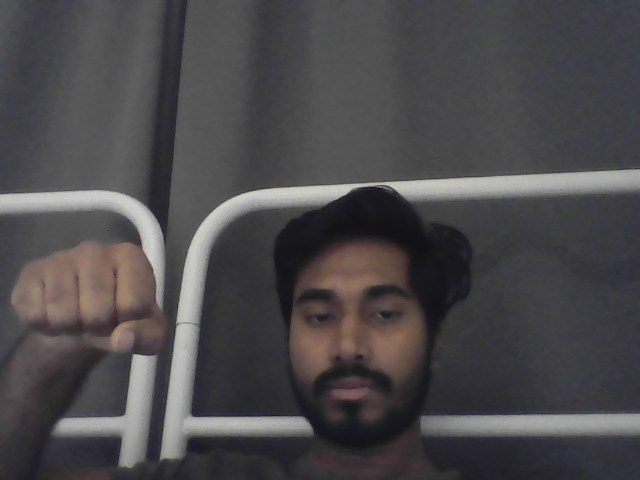yes: (9, 240, 172, 358)
